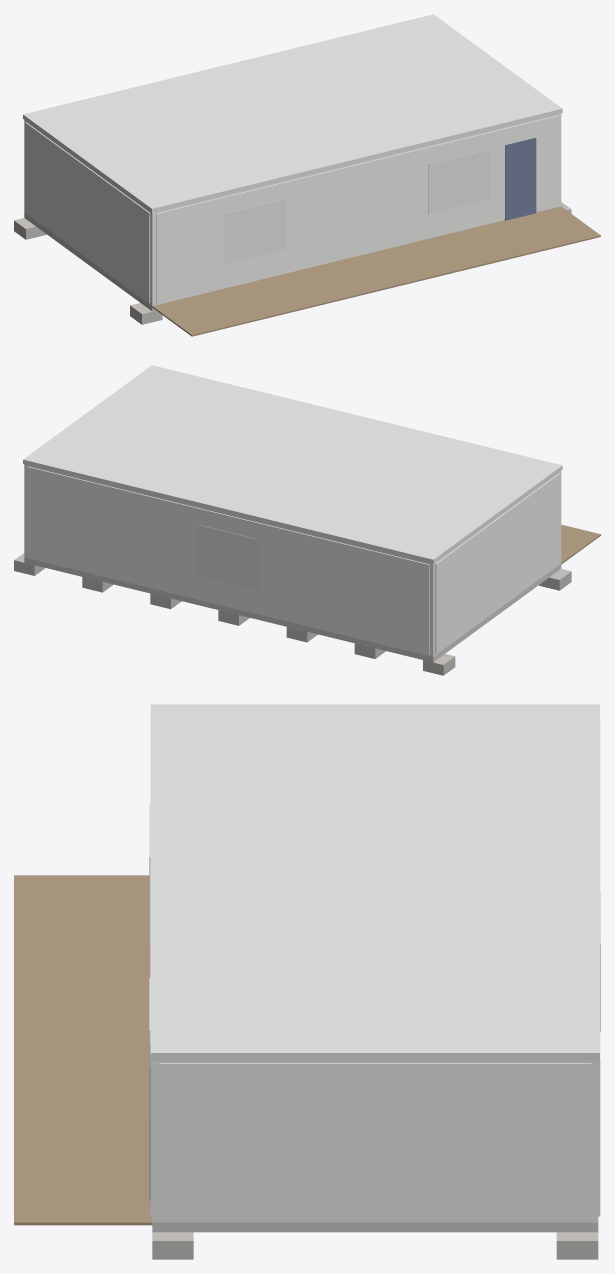
File: Studio-40-Premium+TerraceDeck-LOD1.glb
The picture shows the model from 3 angles, top to bottom: view 1: azimuth 30°, elevation 25°; view 2: azimuth 150°, elevation 25°; view 3: azimuth 270°, elevation 25°; orthographic projection. The views are drawn at different scales.
Parts seen in each view (by area): view 1: RoofMain, ExteriorPanelsPremium, TerraceDeck, WindowsLargeUpgrade, ExteriorShell, EntryDoor, FoundationBlocks, BaseFrame; view 2: RoofMain, ExteriorPanelsPremium, BaseFrame, WindowsLargeUpgrade, ExteriorShell, FoundationBlocks, TerraceDeck; view 3: RoofMain, ExteriorPanelsPremium, TerraceDeck, ExteriorShell, BaseFrame, FoundationBlocks.
Boxes of the visible parts, left/top/right/bottom form: RoofMain: left=23, top=14, right=562, bottom=212; ExteriorPanelsPremium: left=25, top=115, right=558, bottom=303; TerraceDeck: left=152, top=206, right=600, bottom=336; WindowsLargeUpgrade: left=224, top=149, right=490, bottom=263; ExteriorShell: left=24, top=113, right=561, bottom=305; EntryDoor: left=504, top=137, right=536, bottom=220; FoundationBlocks: left=14, top=202, right=571, bottom=324; BaseFrame: left=24, top=212, right=155, bottom=311; RoofMain: left=23, top=365, right=562, bottom=563; ExteriorPanelsPremium: left=27, top=466, right=560, bottom=654; BaseFrame: left=24, top=557, right=561, bottom=662; WindowsLargeUpgrade: left=197, top=524, right=258, bottom=589; ExteriorShell: left=24, top=464, right=561, bottom=656; FoundationBlocks: left=14, top=553, right=571, bottom=675; TerraceDeck: left=561, top=524, right=600, bottom=564; RoofMain: left=150, top=704, right=599, bottom=1060; ExteriorPanelsPremium: left=150, top=718, right=600, bottom=1220; TerraceDeck: left=14, top=875, right=152, bottom=1225; ExteriorShell: left=152, top=1060, right=598, bottom=1222; BaseFrame: left=152, top=1222, right=598, bottom=1232; FoundationBlocks: left=152, top=1232, right=598, bottom=1259.
Bounding box in the file's own units: 12.49 × 3.17 × 8.49.
